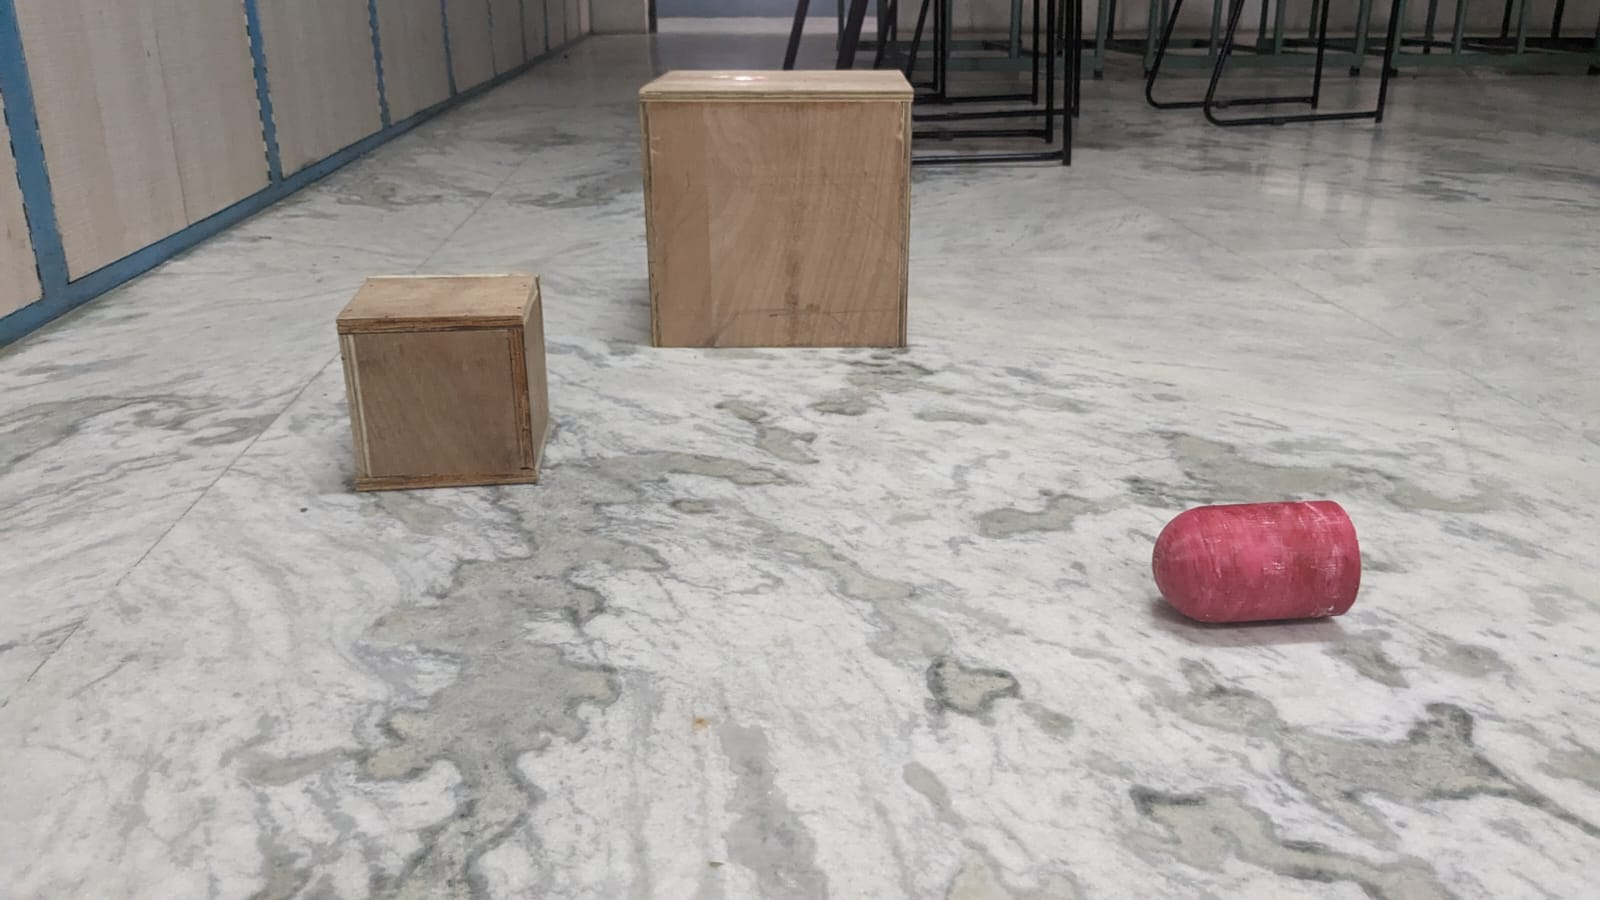150mm obstacle: (324, 266, 576, 501)
300mm obstacle: (620, 60, 941, 368)
testtube: (1146, 480, 1392, 641)
